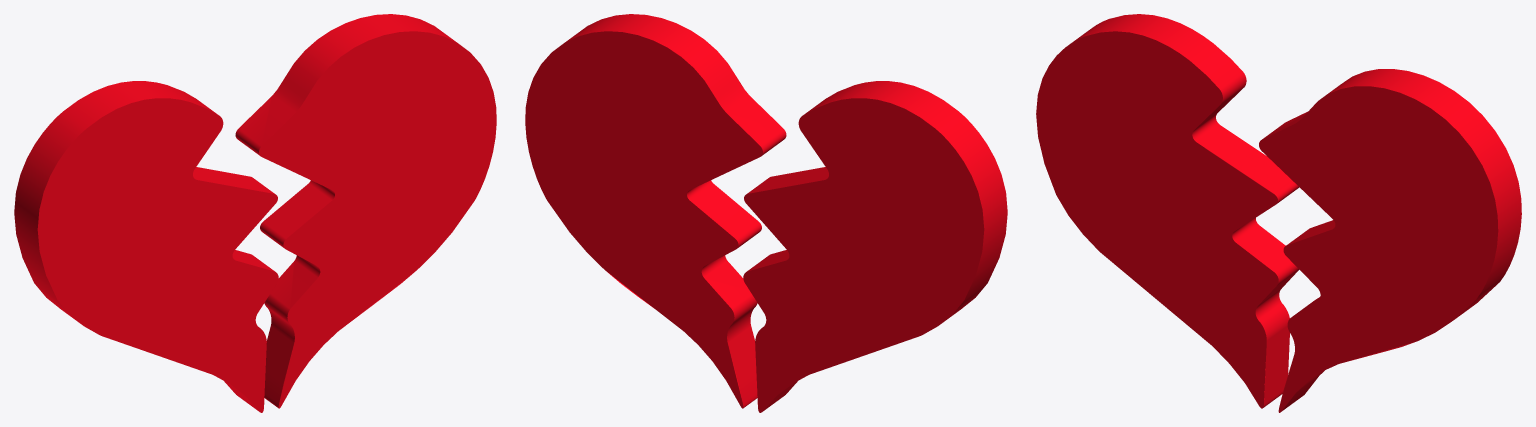
Rendered from broken_heart.glb.
3 renders of one model, left to right at view 1: azimuth 30°, elevation 25°; view 2: azimuth 150°, elevation 25°; view 3: azimuth 330°, elevation 25°, orthographic.
Parts seen in each view (by area): view 1: Curve.001; view 2: Curve.001; view 3: Curve.001.
Boxes of the visible parts, <box> form: Curve.001: <box>14,14,496,412</box>; Curve.001: <box>525,14,1007,412</box>; Curve.001: <box>1036,14,1521,412</box>.
Size of the model in its own units: 1.07 by 0.7751 by 0.0948.
